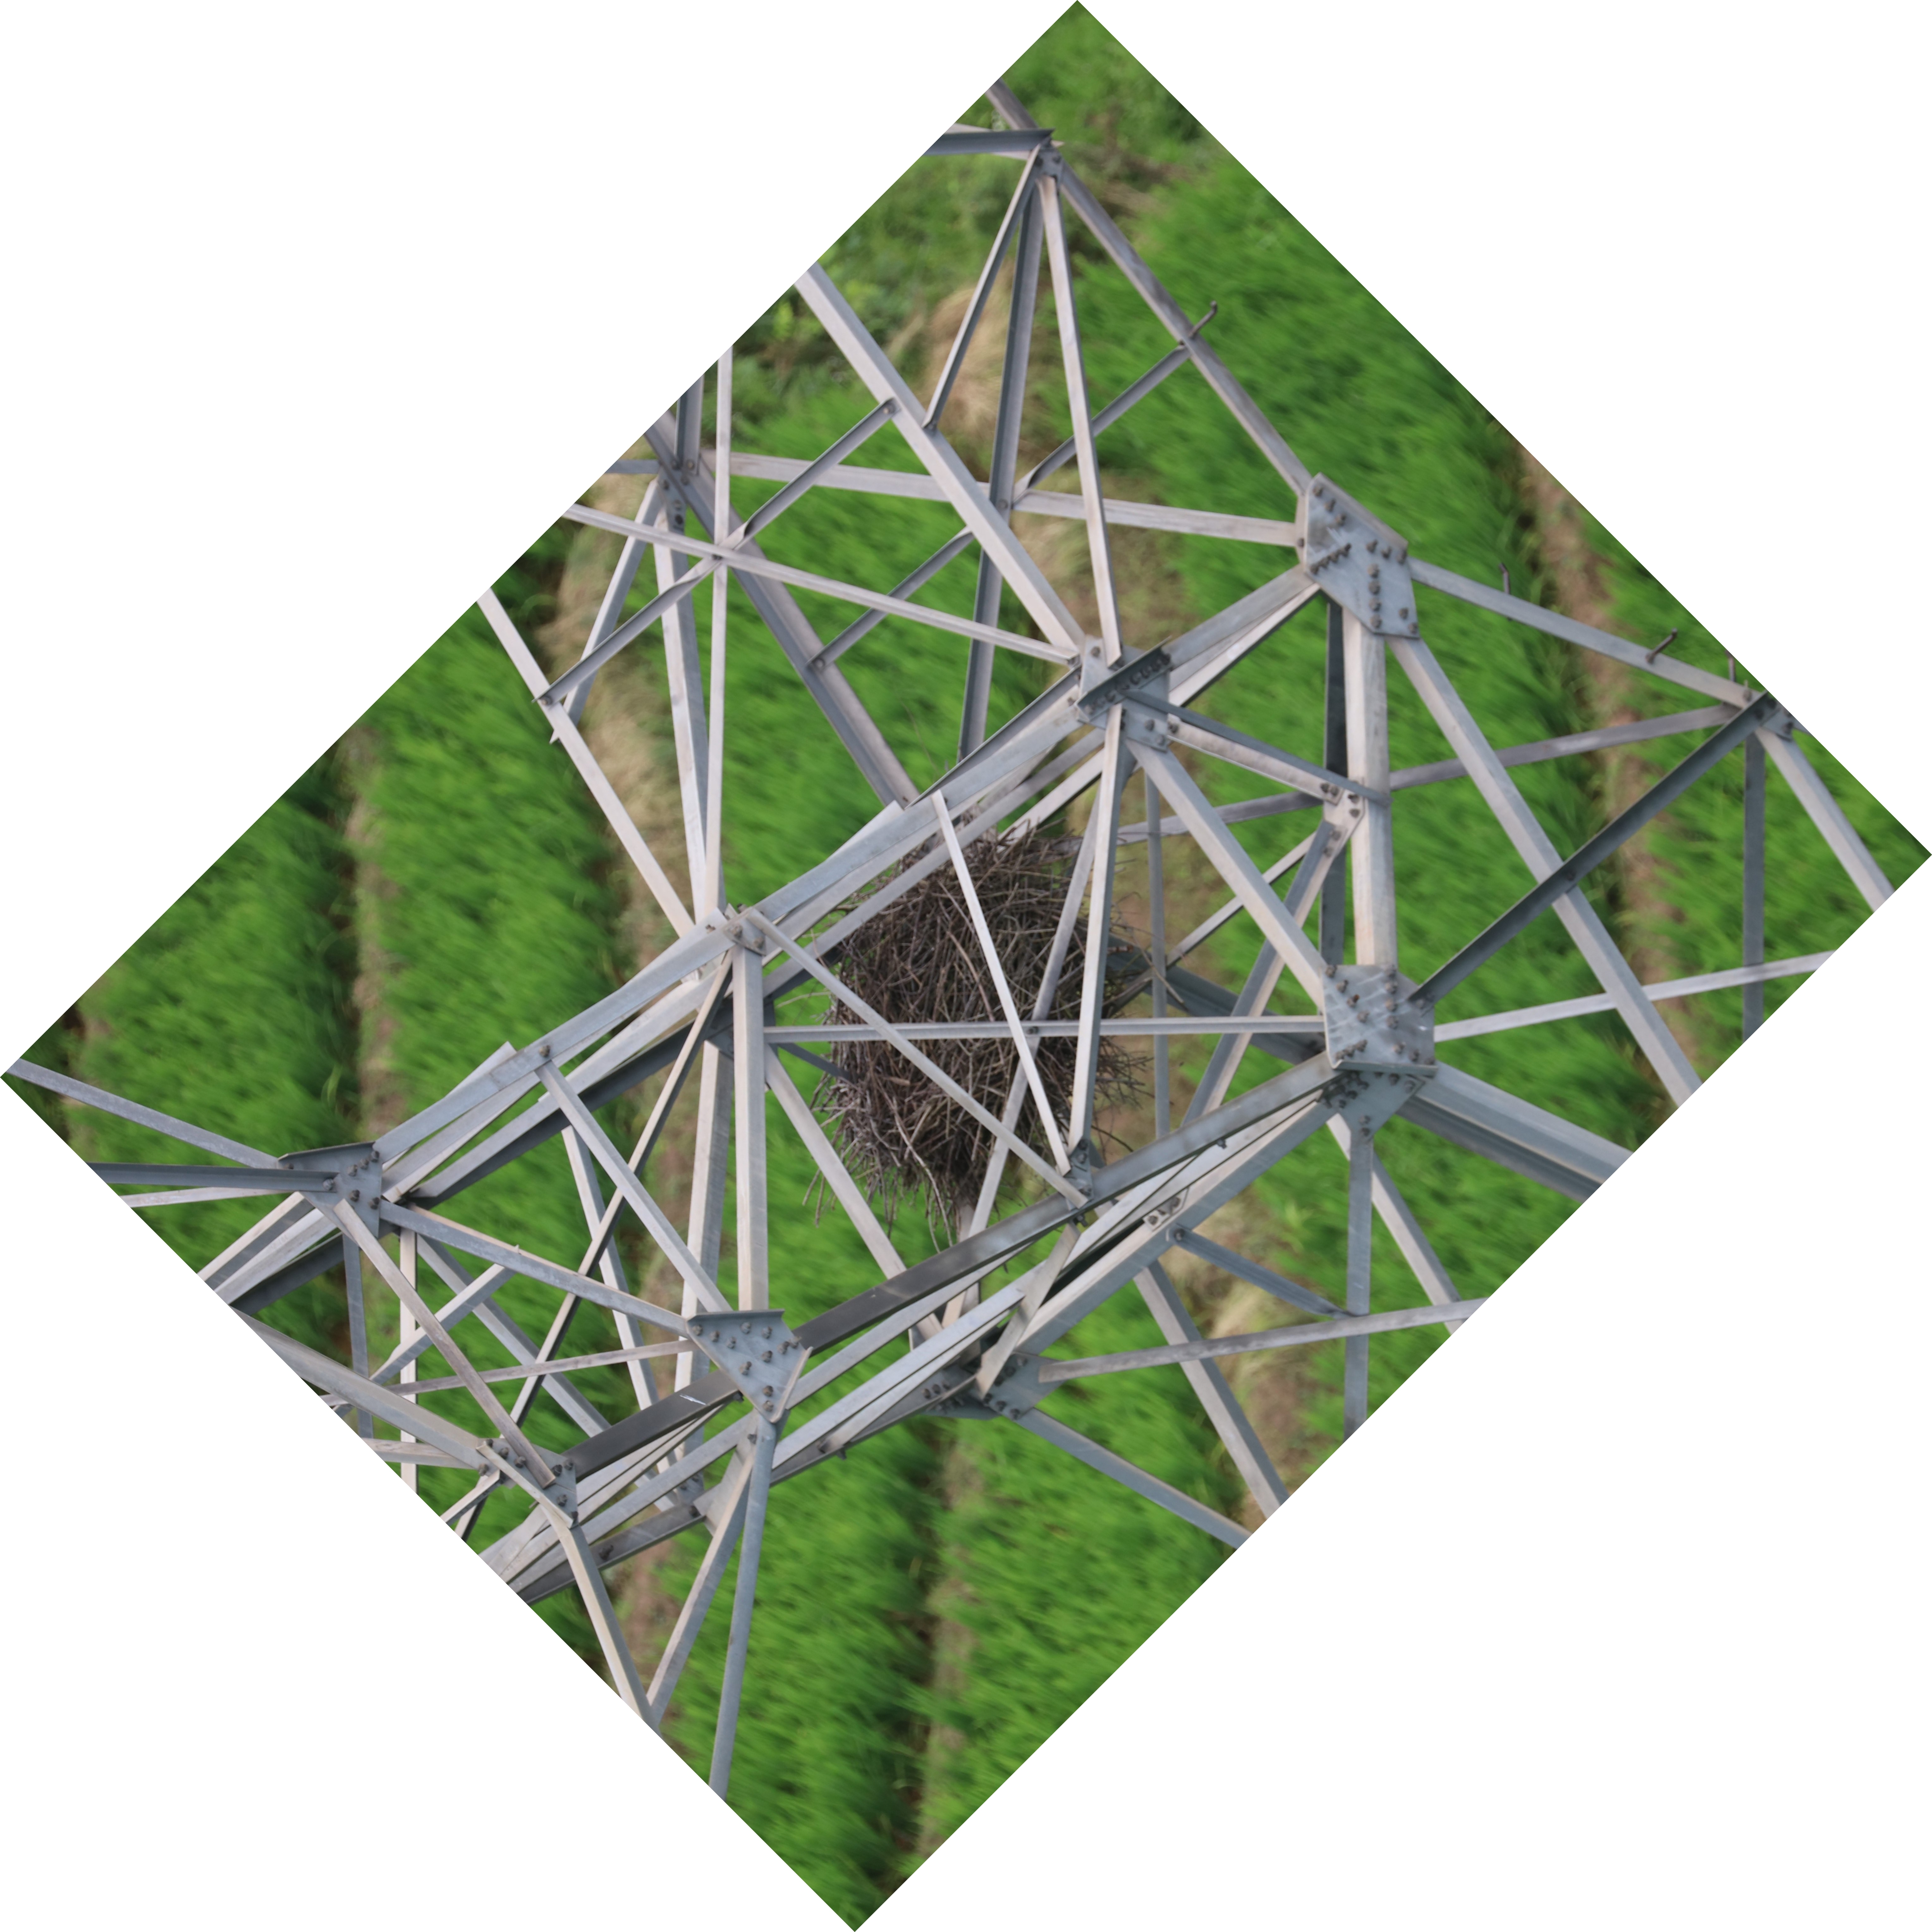niaowo: (793, 798, 1127, 1219)
